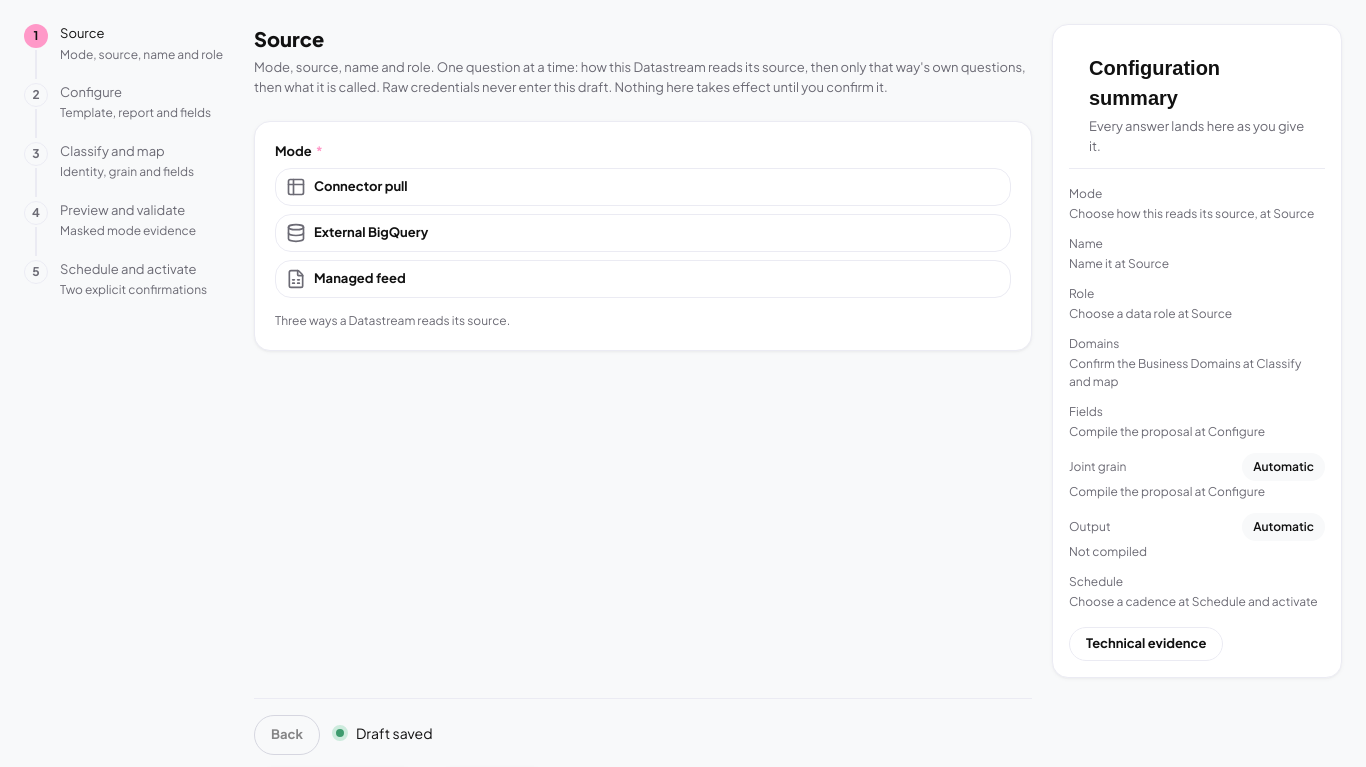
asks for the Google grant and never for an account of it
This screenshot has width=1366, height=767.
Click the radio button labelled "Managed feed". click: (360, 278)
box: [275,260,1011,298]
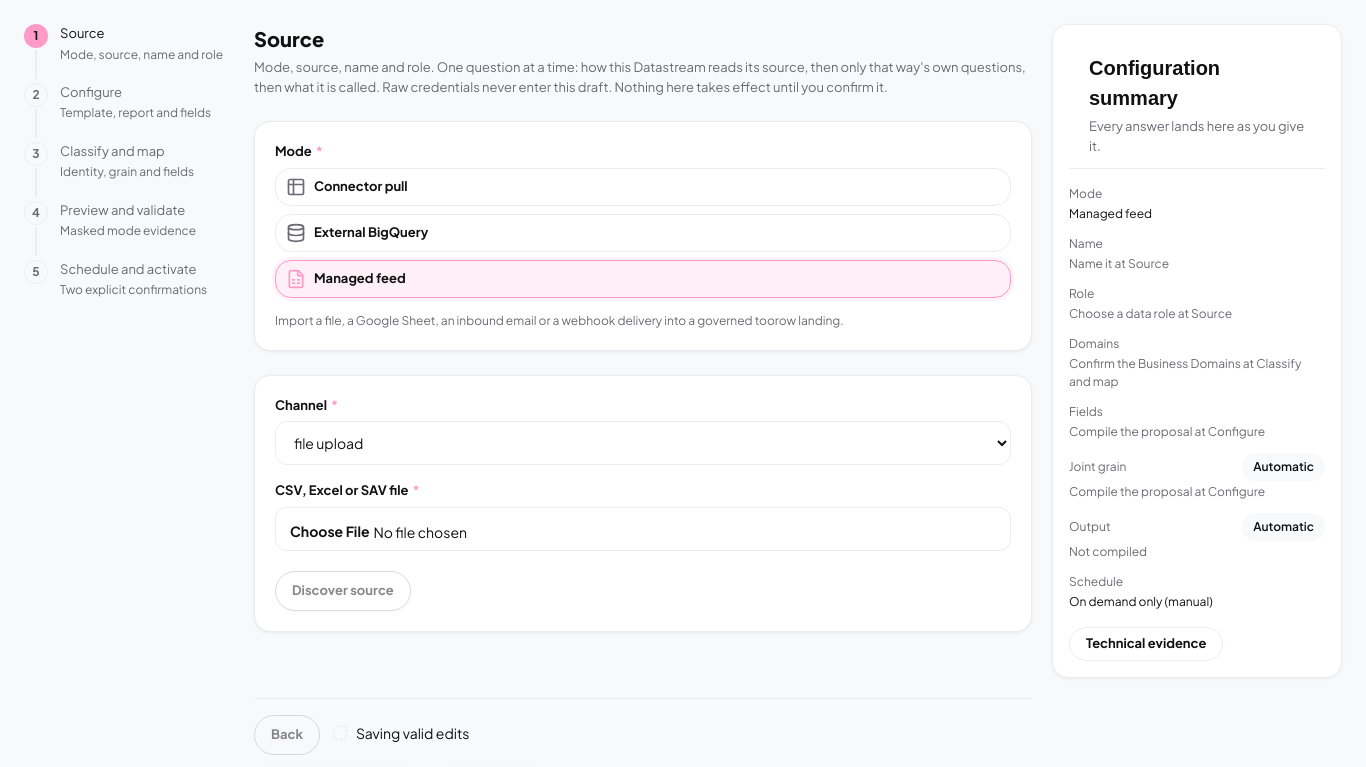
Select "google sheets" in the dropdown labelled "Channel*". click: (643, 443)
box: [275,421,1011,465]
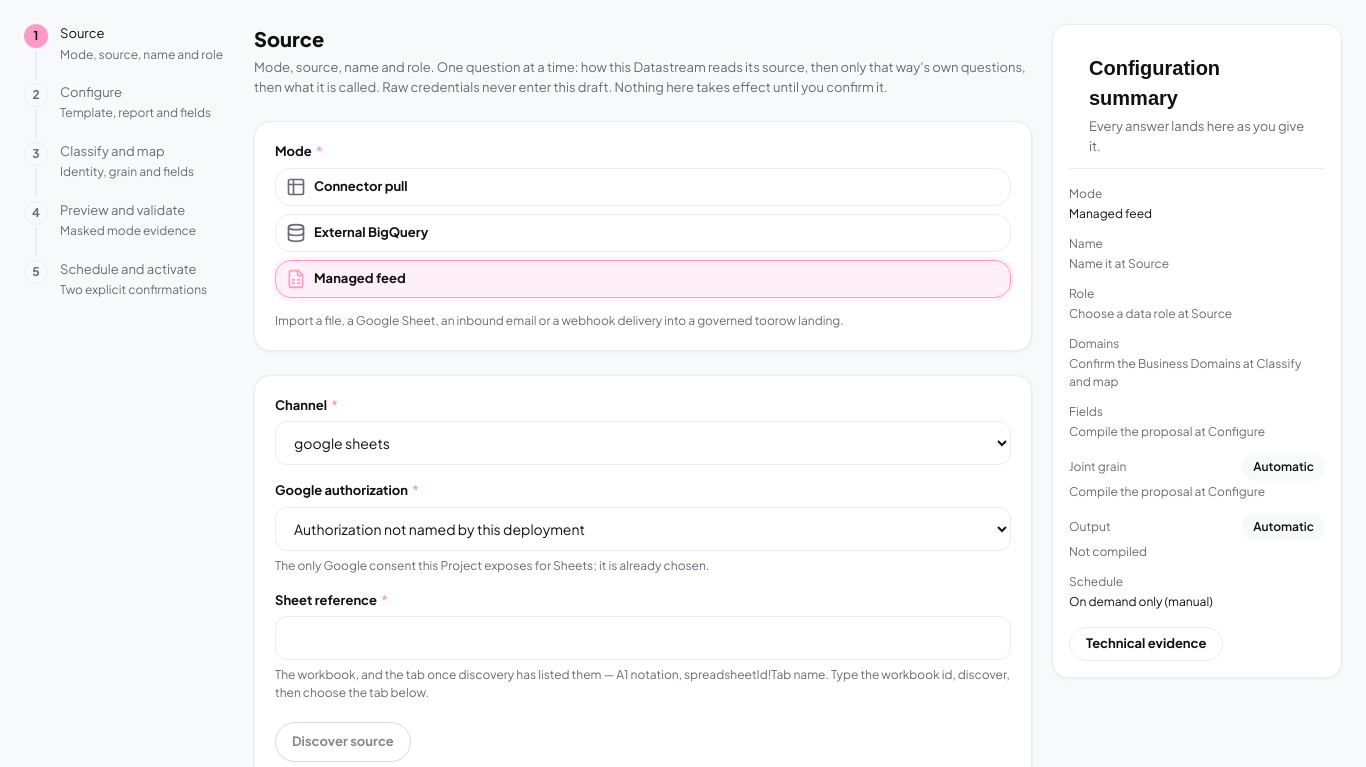
expect the dropdown labelled "Google authorization*" is shown: met, box [275,506,1011,550]
